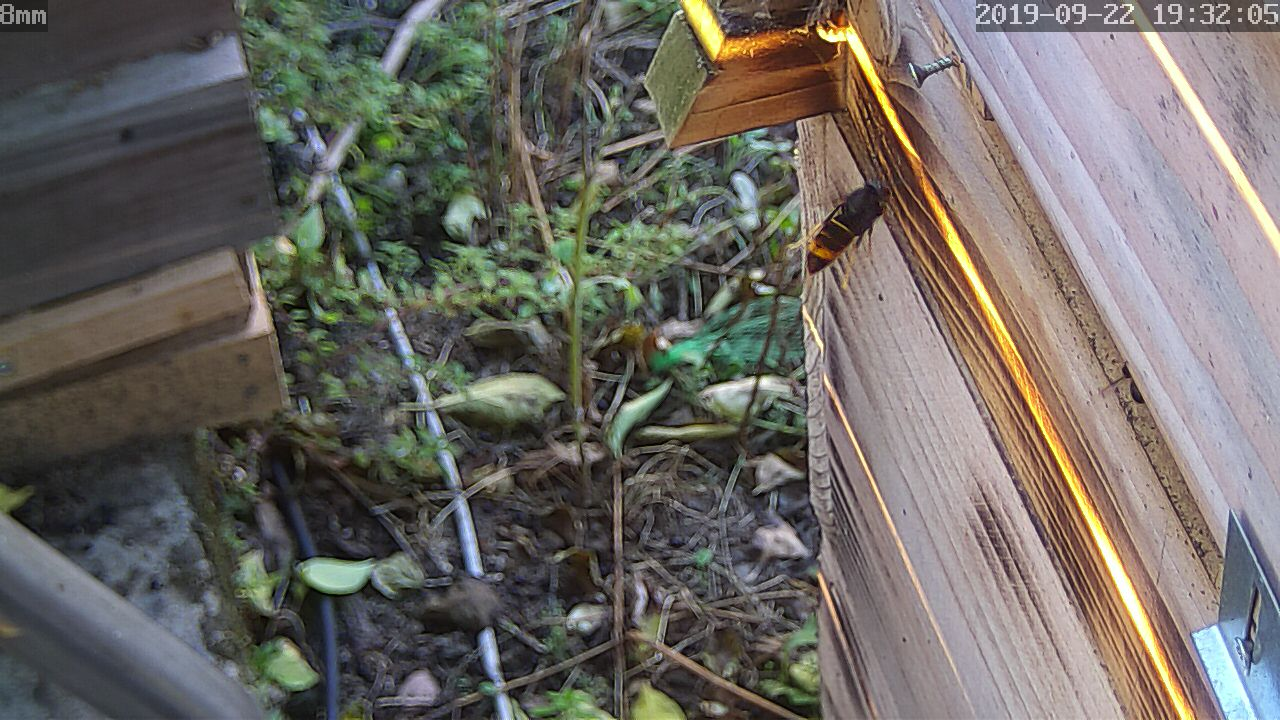hornet: (796, 180, 899, 279)
